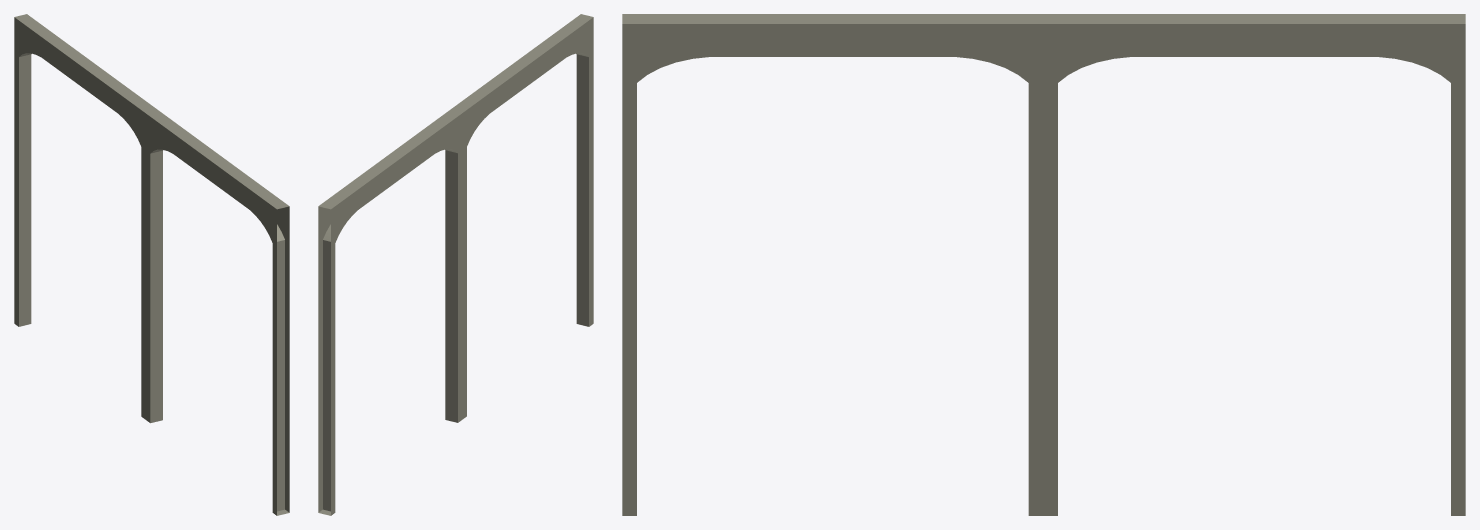
Rendered from SM_WindowFrame_3.fbx.
The picture shows the model from 3 angles, left to right: view 1: azimuth 30°, elevation 25°; view 2: azimuth 150°, elevation 25°; view 3: azimuth 270°, elevation 25°; orthographic projection. The views are drawn at different scales.
Visible parts, largest first — view 1: SM_WindowFrame_3; view 2: SM_WindowFrame_3; view 3: SM_WindowFrame_3.
Boxes of the visible parts, <box> form: SM_WindowFrame_3: <box>14,14,289,515</box>; SM_WindowFrame_3: <box>318,14,593,515</box>; SM_WindowFrame_3: <box>622,14,1465,515</box>.
Size of the model in its own units: 35.48 by 1276 by 821.
1 material, 1 textured.
